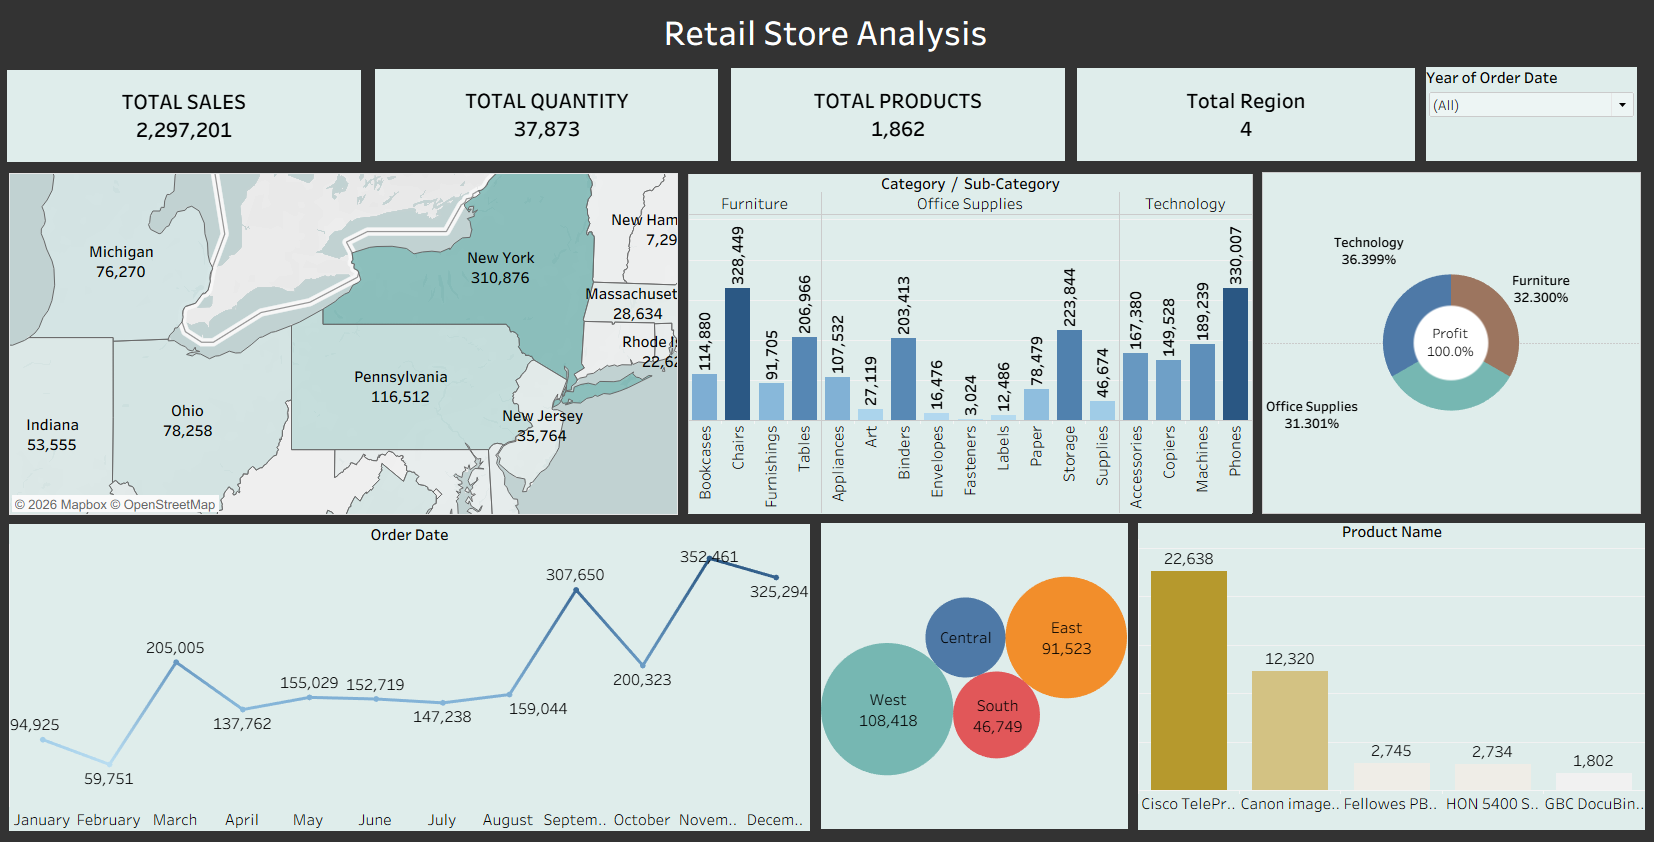

What the dashboard file says about the page in this screenshot:
{"tool":"tableau","page":{"name":"Dashboard 1","canvas":[1000,1000],"units":"permille","ordinal":0},"visuals":[{"type":"title","box":[4.8,9.2,990.3,63.6]},{"type":"filter","title":"month forcast by sales ","param":"[federated.1rioegk0p2mgux10my4uo06lj268].[yr:Order Date:ok]","box":[862.4,82.1,127.3,109.8]},{"type":"worksheet","title":"total products","mark":"Automatic","box":[443,83.6,201.6,108]},{"type":"worksheet","title":"Total region","mark":"Automatic","box":[651.8,83.6,204,108]},{"type":"worksheet","title":"Total Qantity","mark":"Automatic","box":[228.1,84.8,207,106.9]},{"type":"worksheet","title":"Total sales","mark":"Automatic","box":[6,86,213.6,106.9]},{"type":"worksheet","title":"category and sub category by sales","mark":"Automatic","rows":["Sales"],"cols":["Category","Sub-Category"],"box":[417,204.4,340.4,394.9]},{"type":"worksheet","title":"category by sales and profit ratio","mark":"Pie","rows":["Calculation_33214110395199498","Calculation_33214110395244558"],"box":[763.4,204.4,228.7,397.2]},{"type":"worksheet","title":"country state by sales ","mark":"Multipolygon","box":[7.2,205.6,403.7,397.2]},{"type":"worksheet","title":"region by profit","mark":"Circle","box":[497.3,612.1,185.3,355.4]},{"type":"worksheet","title":"top products by sales","mark":"Automatic","rows":["Sales"],"cols":["Product Name"],"box":[688.6,612.1,306,356.6]},{"type":"worksheet","title":"month forcast by sales ","mark":"Automatic","rows":["Sales"],"cols":["Order Date"],"box":[7.2,613.2,483.4,354.2]}]}

Visuals, with their boxes on the dashboard's canvas, which has no fixed pixel size, in thousandths of its width and height (x1, y1, x2, y2). These are canvas units, not pixel positions in the 1654x842 screenshot, which may show the page scaled, cropped or inside an application window:
title: {"x1": 5, "y1": 9, "x2": 995, "y2": 73}
"month forcast by sales " filter: {"x1": 862, "y1": 82, "x2": 990, "y2": 192}
"total products" worksheet: {"x1": 443, "y1": 84, "x2": 645, "y2": 192}
"Total region" worksheet: {"x1": 652, "y1": 84, "x2": 856, "y2": 192}
"Total Qantity" worksheet: {"x1": 228, "y1": 85, "x2": 435, "y2": 192}
"Total sales" worksheet: {"x1": 6, "y1": 86, "x2": 220, "y2": 193}
"category and sub category by sales" worksheet: {"x1": 417, "y1": 204, "x2": 757, "y2": 599}
"category by sales and profit ratio" worksheet (Pie marks): {"x1": 763, "y1": 204, "x2": 992, "y2": 602}
"country state by sales " worksheet (Multipolygon marks): {"x1": 7, "y1": 206, "x2": 411, "y2": 603}
"region by profit" worksheet (Circle marks): {"x1": 497, "y1": 612, "x2": 683, "y2": 968}
"top products by sales" worksheet: {"x1": 689, "y1": 612, "x2": 995, "y2": 969}
"month forcast by sales " worksheet: {"x1": 7, "y1": 613, "x2": 491, "y2": 967}
